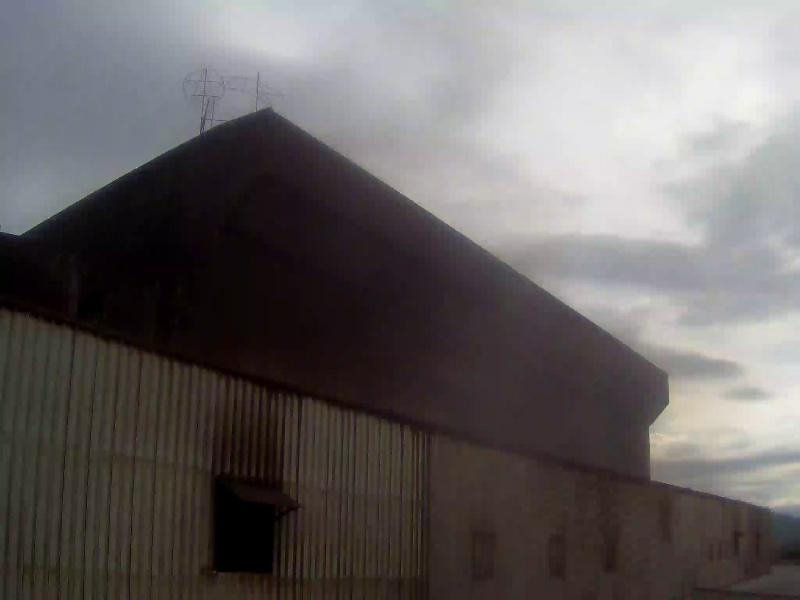bom: (4, 10, 274, 178)
ruim: (265, 96, 676, 466)
